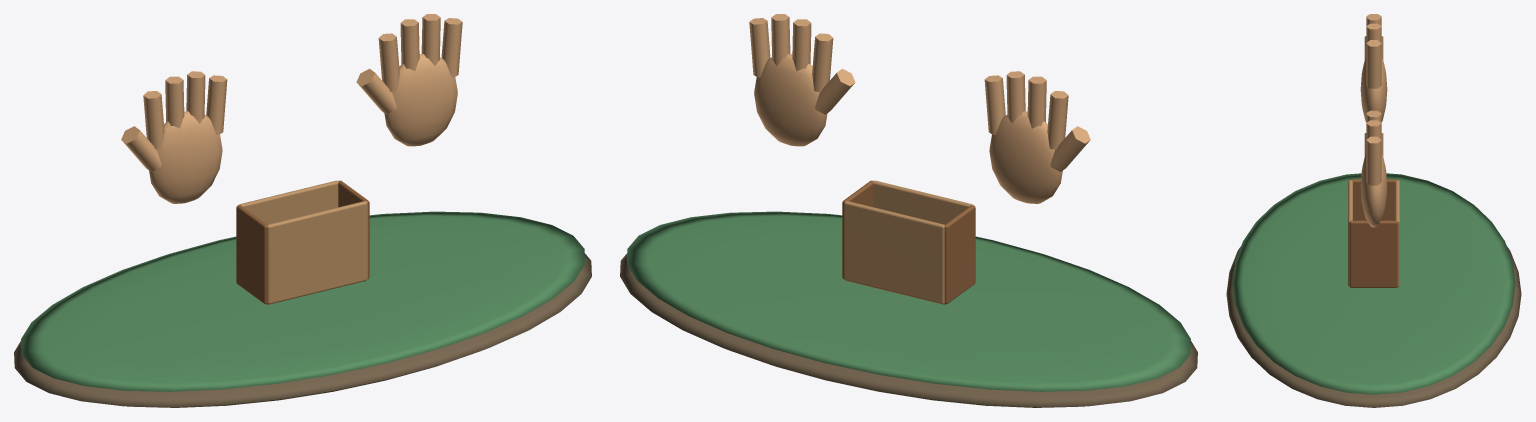
The model's file is complete-first-helping-two-hands.glb.
The picture shows the model from 3 angles, left to right: view 1: azimuth 30°, elevation 25°; view 2: azimuth 150°, elevation 25°; view 3: azimuth 270°, elevation 25°; orthographic projection. The views are drawn at different scales.
Parts seen in each view (by area): view 1: complete-first-helping-two-hands_surface_01, complete-first-helping-two-hands_surface_02, complete-first-helping-two-hands_surface_03, complete-first-helping-two-hands_surface_00, complete-first-helping-two-hands_surface_04; view 2: complete-first-helping-two-hands_surface_01, complete-first-helping-two-hands_surface_02, complete-first-helping-two-hands_surface_03, complete-first-helping-two-hands_surface_00, complete-first-helping-two-hands_surface_04; view 3: complete-first-helping-two-hands_surface_01, complete-first-helping-two-hands_surface_00, complete-first-helping-two-hands_surface_02, complete-first-helping-two-hands_surface_04, complete-first-helping-two-hands_surface_03.
Boxes of the visible parts, x1,y1,x2,y2 form: complete-first-helping-two-hands_surface_01: (21,211,584,391); complete-first-helping-two-hands_surface_02: (121,14,462,203); complete-first-helping-two-hands_surface_03: (239,180,367,304); complete-first-helping-two-hands_surface_00: (14,253,591,407); complete-first-helping-two-hands_surface_04: (236,180,369,304); complete-first-helping-two-hands_surface_01: (627,211,1190,391); complete-first-helping-two-hands_surface_02: (749,14,1090,203); complete-first-helping-two-hands_surface_03: (844,180,972,304); complete-first-helping-two-hands_surface_00: (620,253,1197,407); complete-first-helping-two-hands_surface_04: (842,180,975,304); complete-first-helping-two-hands_surface_01: (1232,173,1515,394); complete-first-helping-two-hands_surface_00: (1226,246,1521,407); complete-first-helping-two-hands_surface_02: (1360,14,1387,227); complete-first-helping-two-hands_surface_04: (1349,179,1398,287); complete-first-helping-two-hands_surface_03: (1348,180,1399,286).
Size of the model in its own units: 4.56 by 2.22 by 2.5.
